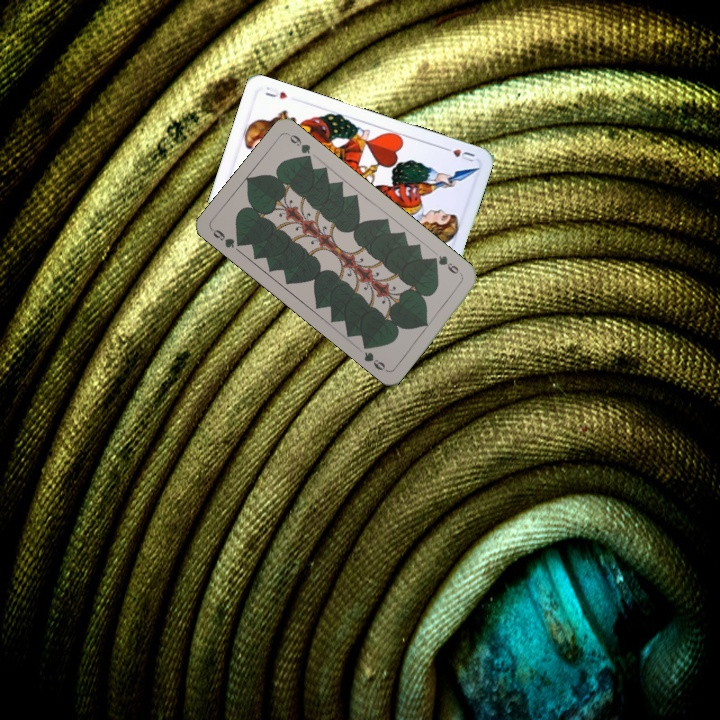G9: (428, 251, 465, 279), (207, 225, 246, 251)
HU: (439, 143, 477, 164)
